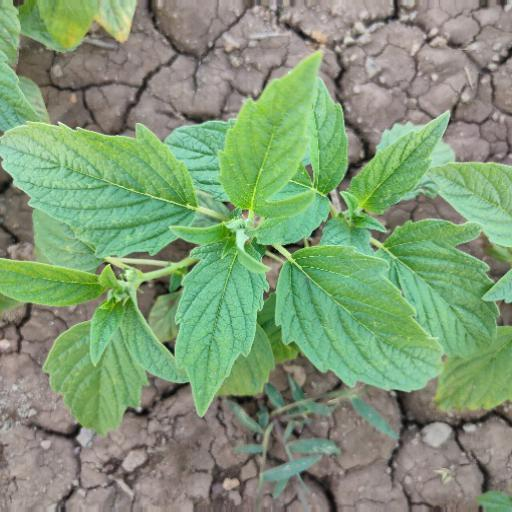weed: (15, 51, 491, 411)
